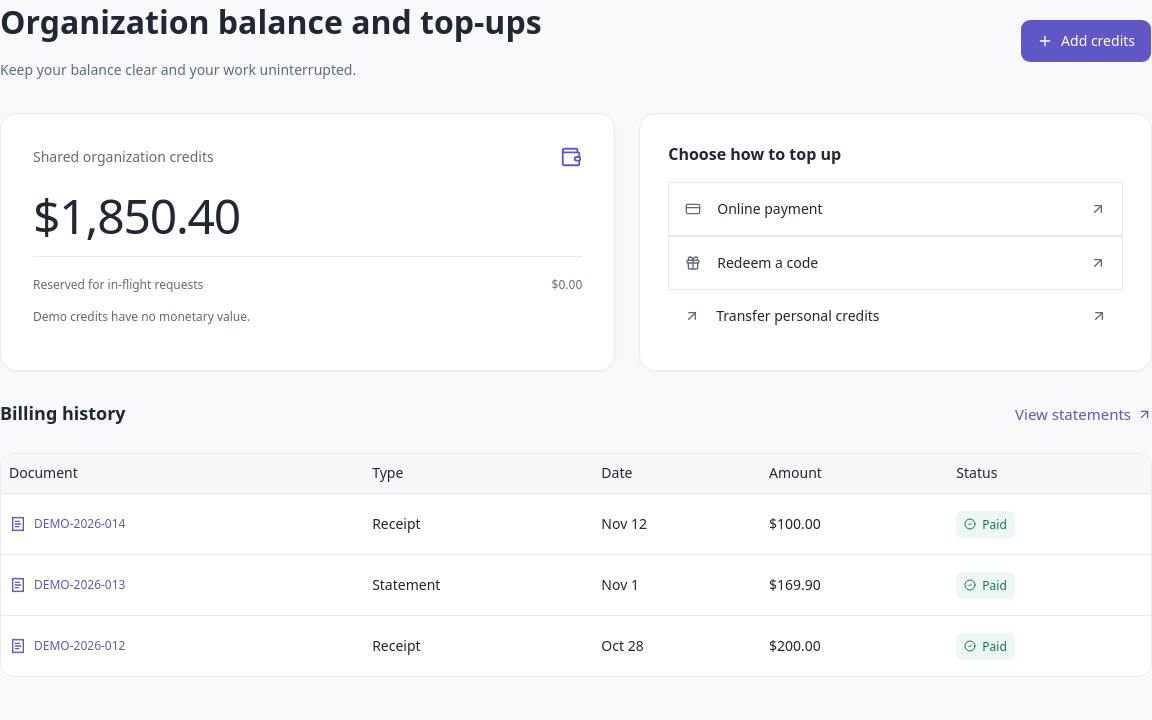
Test: Demo wallet state › an organization top-up does not add credits to the personal wallet
This screenshot has width=1152, height=720.
Later steps or results of the test are not shown.
Expected: the heading "Organization balance and top-ups" is shown, [0,0,542,45]
Click the button "Add credits". click: (1086, 41)
box: [1020,19,1151,63]
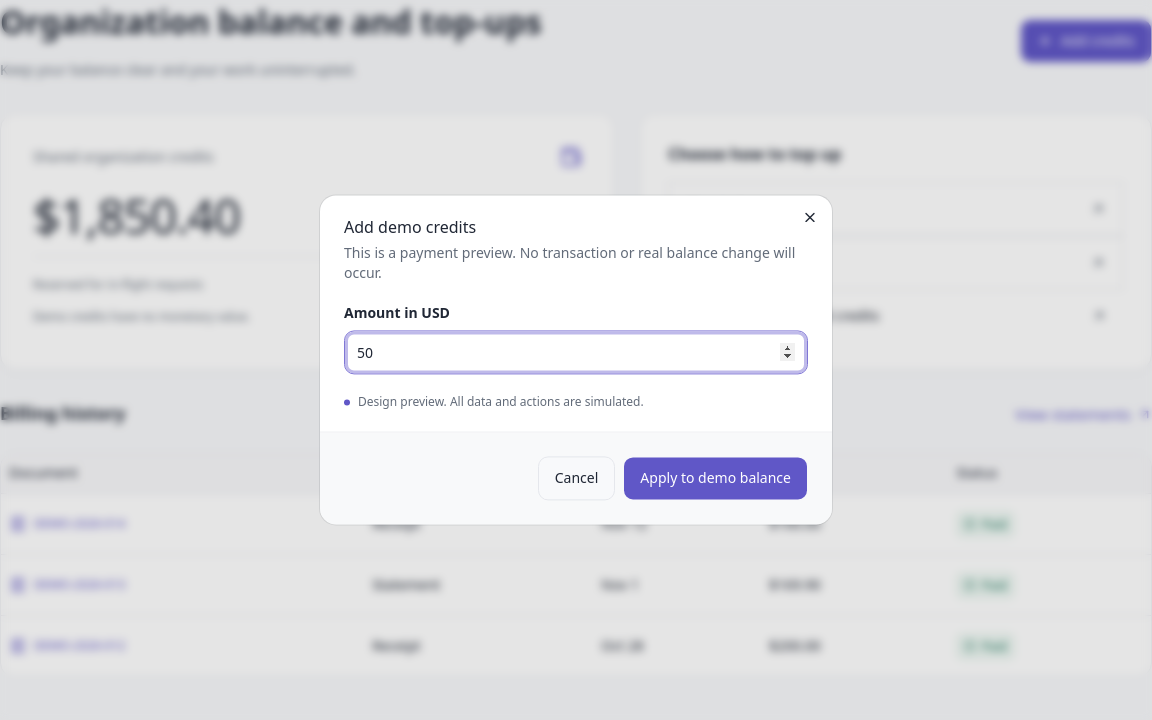
Click the button "Apply to demo balance". click: (716, 479)
box: [623,457,808,501]
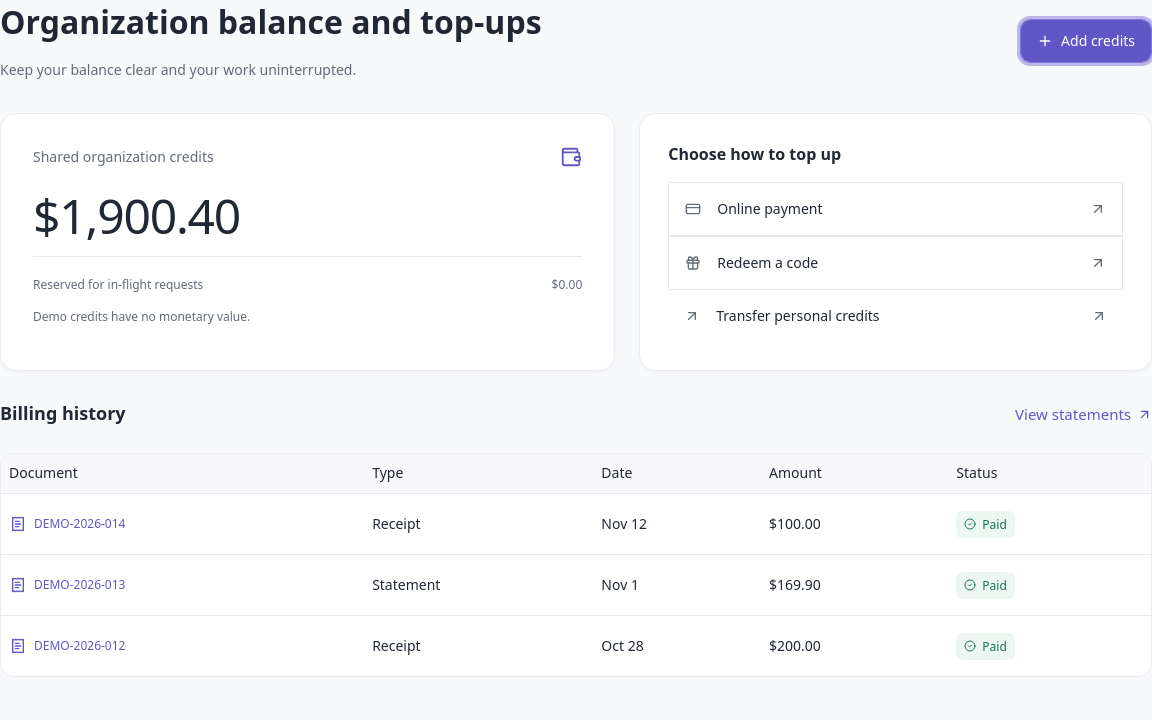
Now the text "$1,900.40" is shown, box [33,183,240,248]
